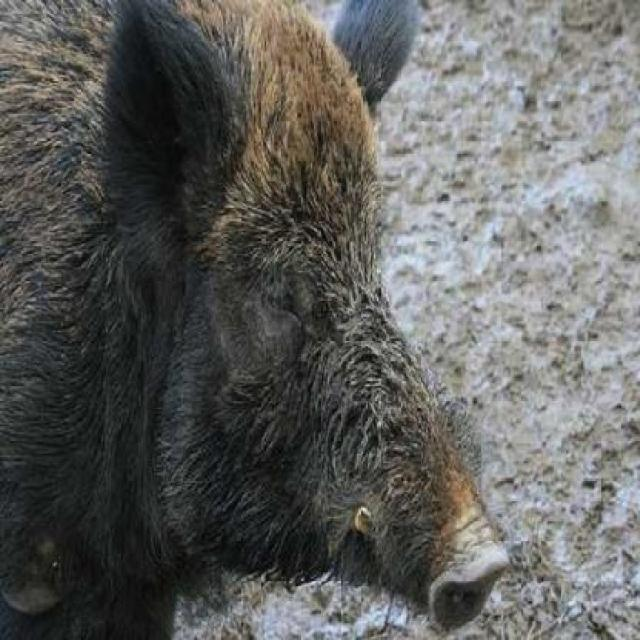Boar: (5, 0, 552, 625)
